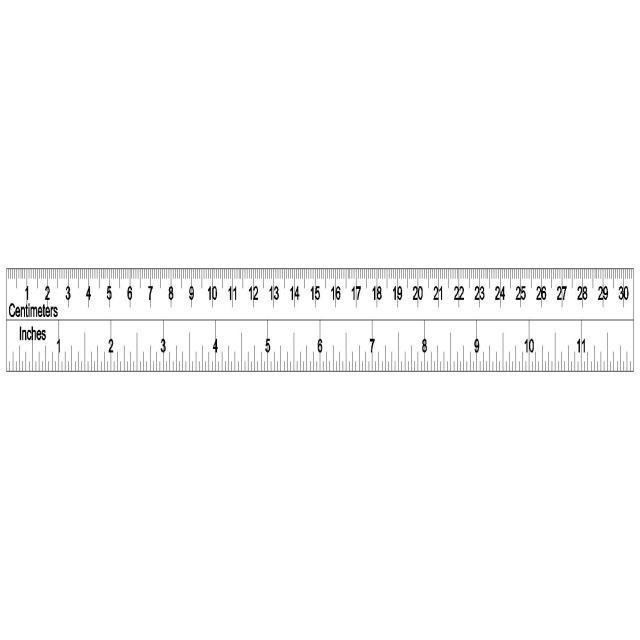scale: (6, 268, 634, 368)
